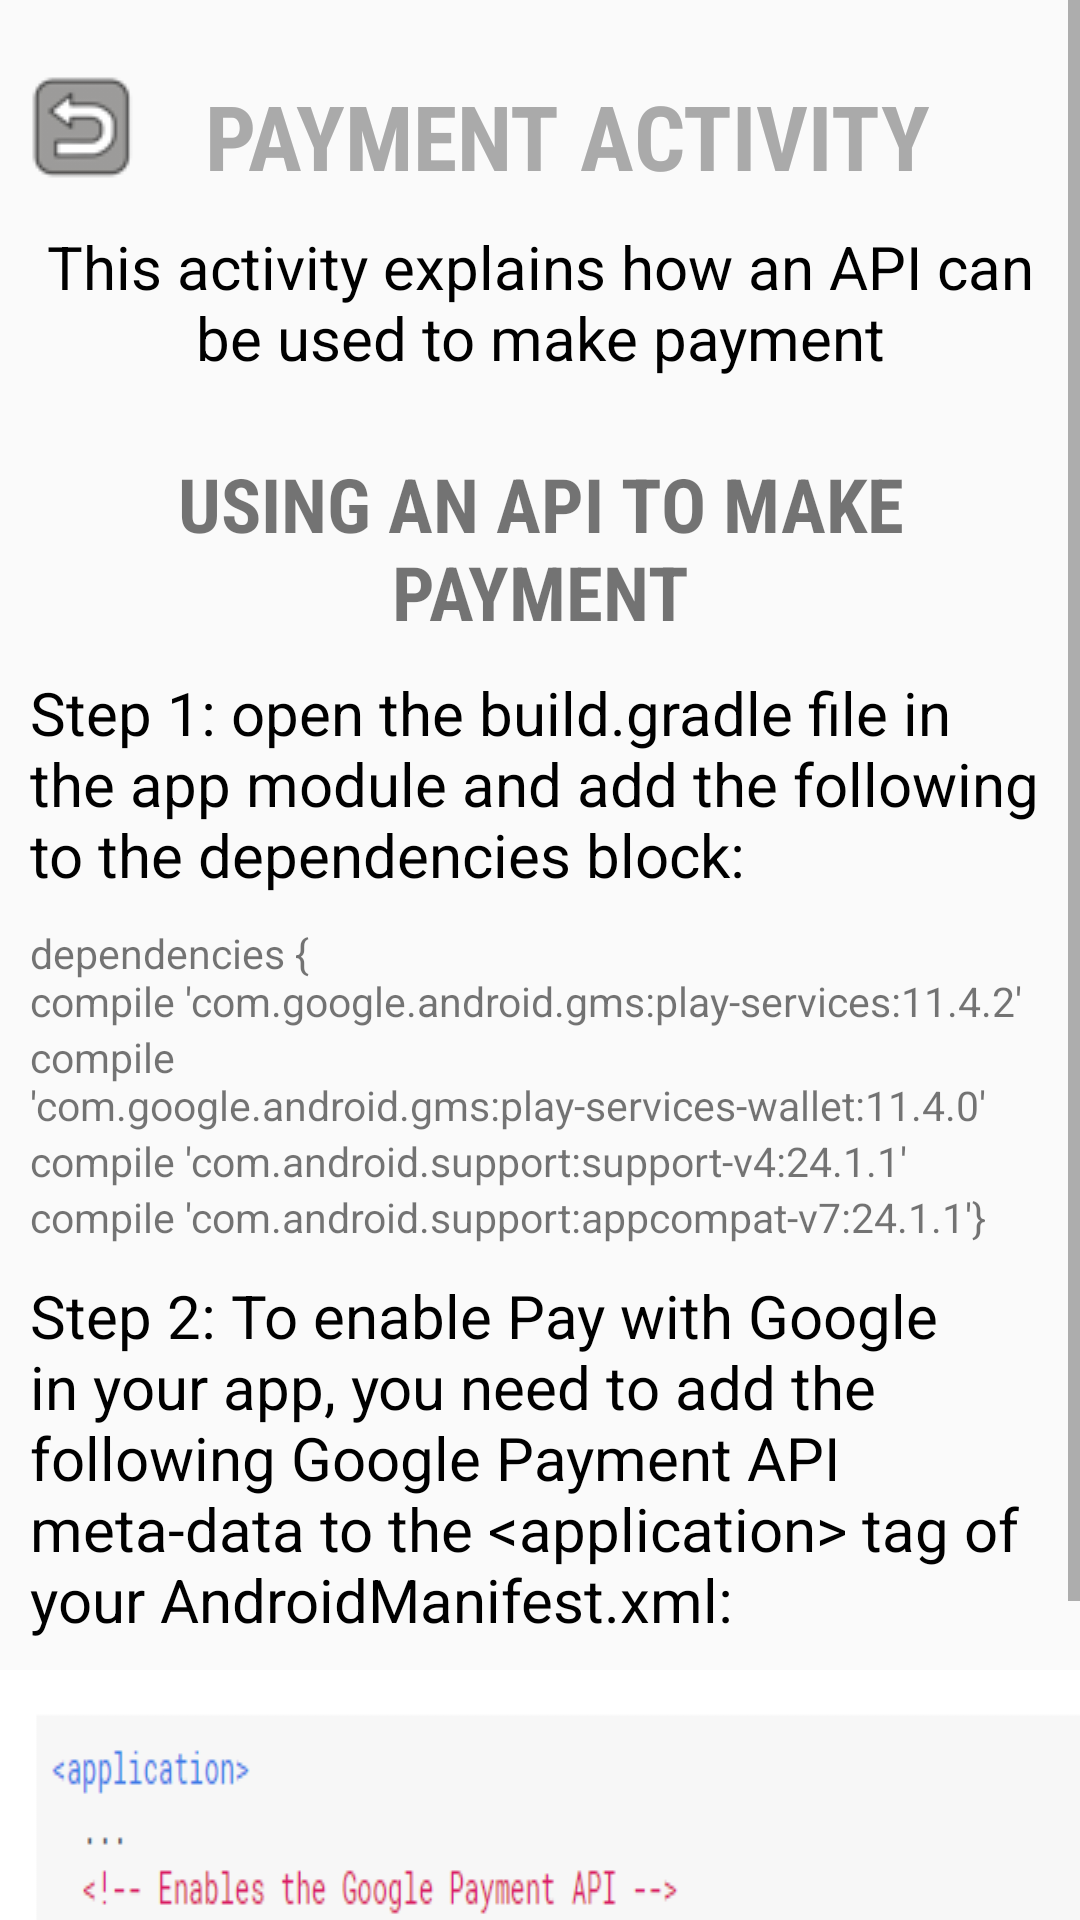

Point at icon controls on the screen. Image size 1080x1920, points as point (x, y).
Back Button: point (81, 127)
